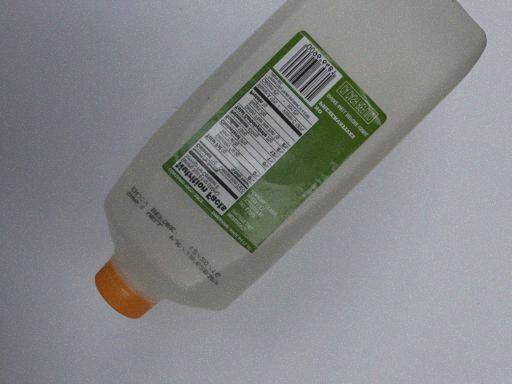plastic: (96, 6, 510, 357)
